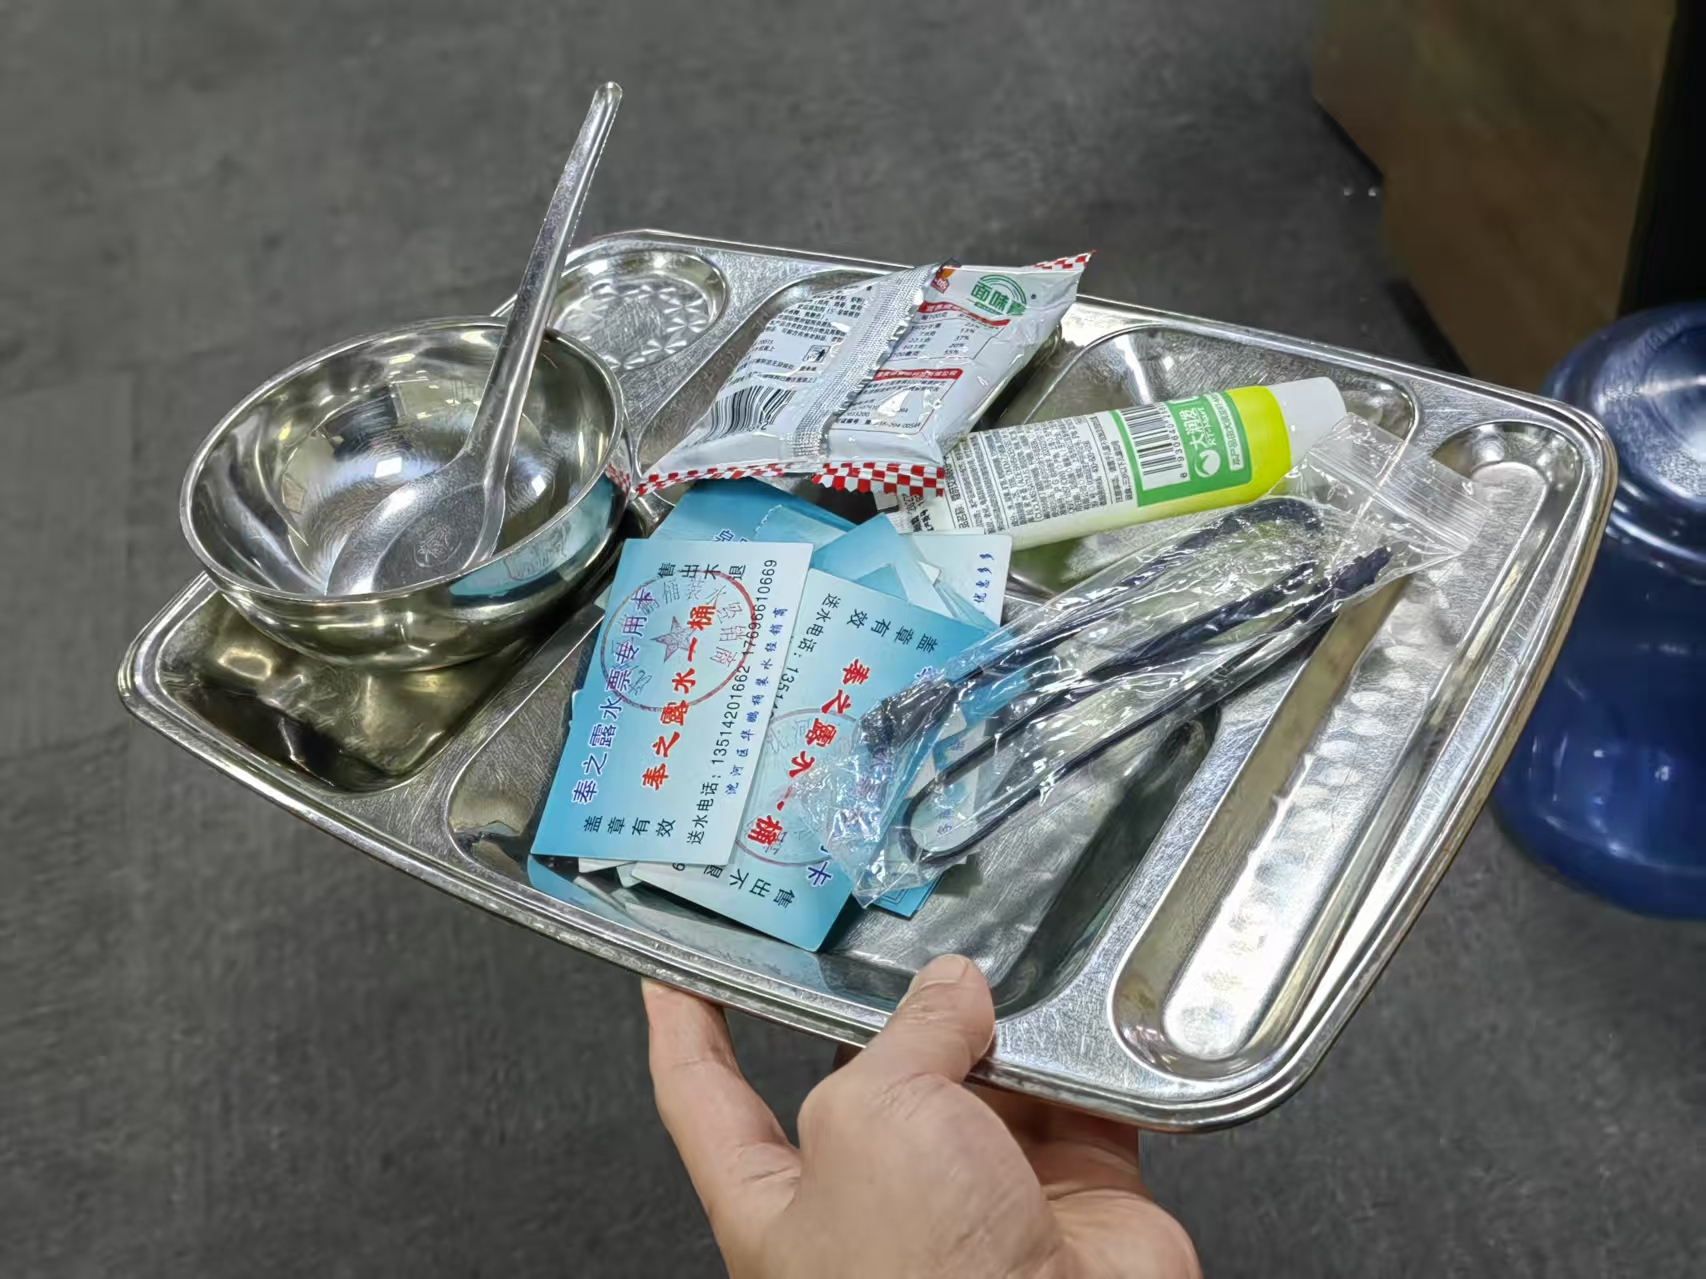plate: (114, 224, 1619, 1138)
severe: (536, 243, 1489, 952)
